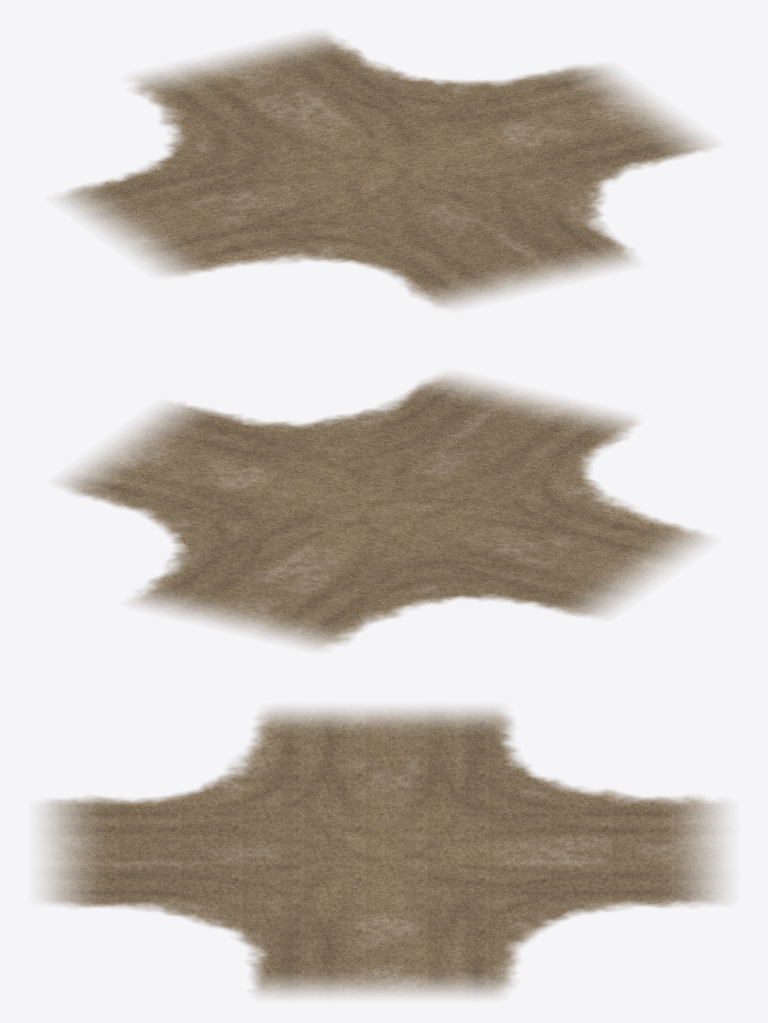
Rendered from road_cross_main_main.glb.
3 renders of one model, top to bottom at view 1: azimuth 30°, elevation 25°; view 2: azimuth 150°, elevation 25°; view 3: azimuth 270°, elevation 25°, orthographic. The views are drawn at different scales.
Parts seen in each view (by area): view 1: road_cross_main_main; view 2: road_cross_main_main; view 3: road_cross_main_main.
Part boxes in pixels (x1,y1,x2,y2): road_cross_main_main: [58, 32, 713, 307]; road_cross_main_main: [59, 374, 708, 649]; road_cross_main_main: [41, 708, 726, 996].
Bounding box in the file's own units: 30 × 0 × 30.
1 material, 1 textured.
